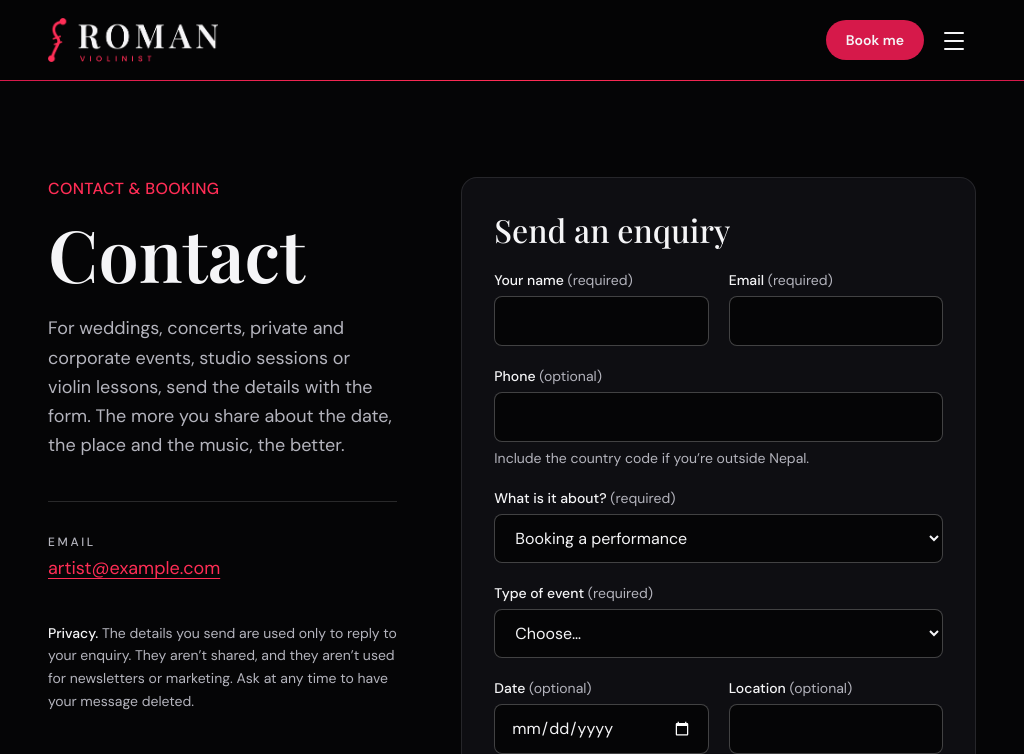
contact page › explains the rate limit
Type "Sita Sharma" into the field labelled "Your name (required)" at (601, 321), box [494,296,709,346]
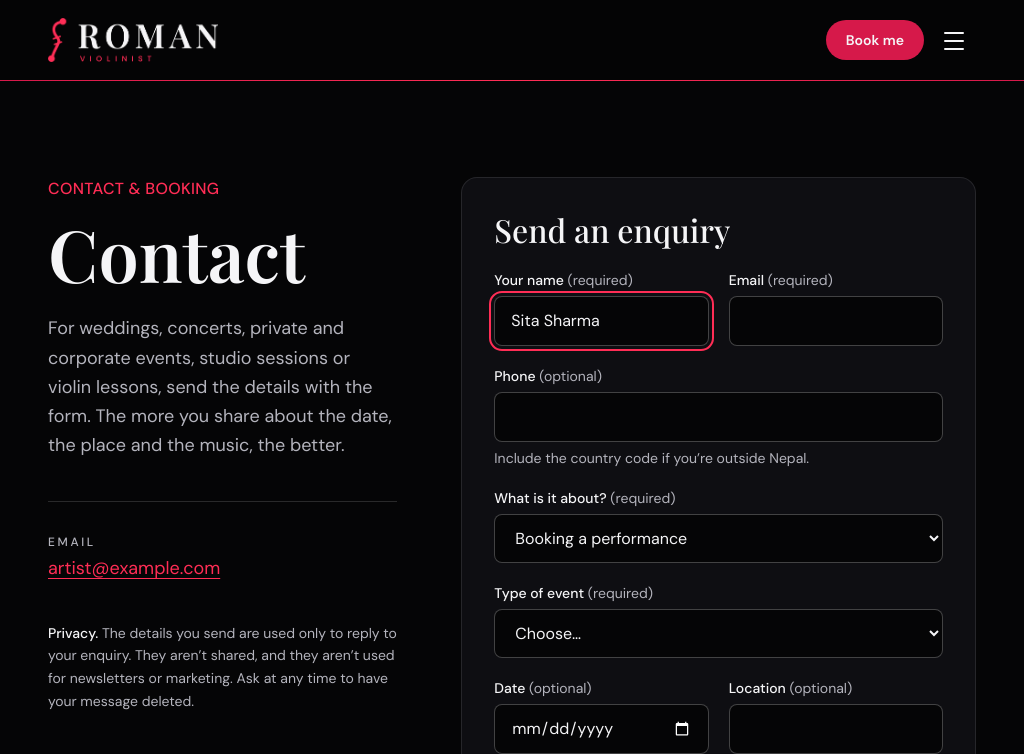
Type "sita@example.com" into the field labelled "Email (required)" at (836, 321), box [729,296,943,346]
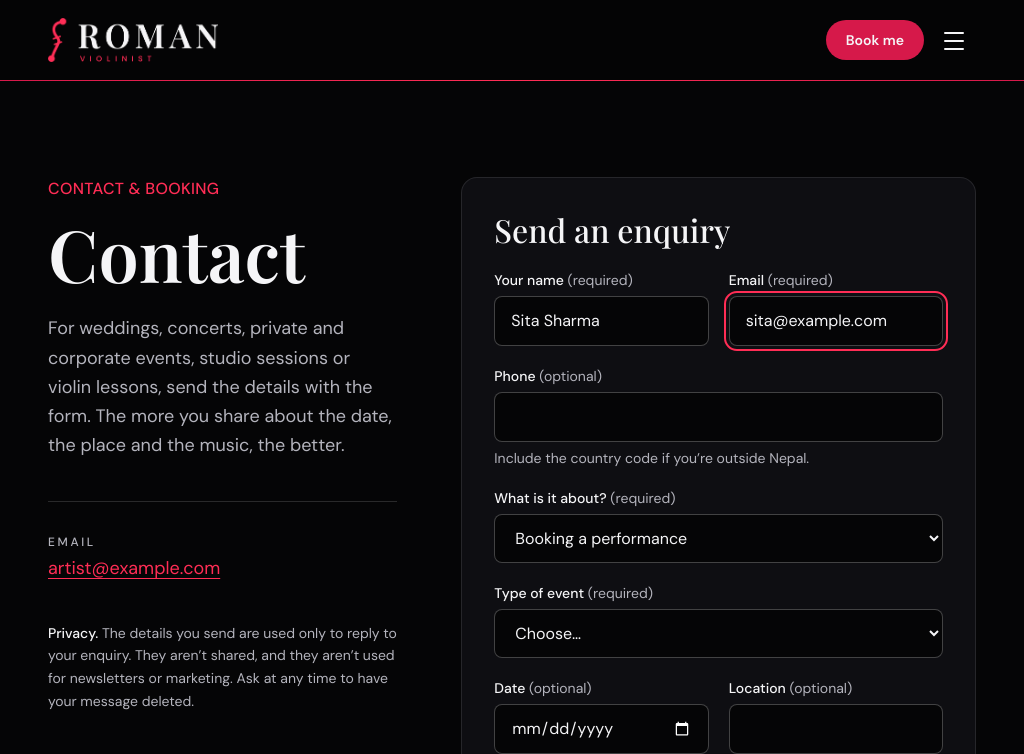
Select "Wedding" in the dropdown labelled "Type of event (required)" at (719, 634), box [494,609,943,658]
(page scrolled)
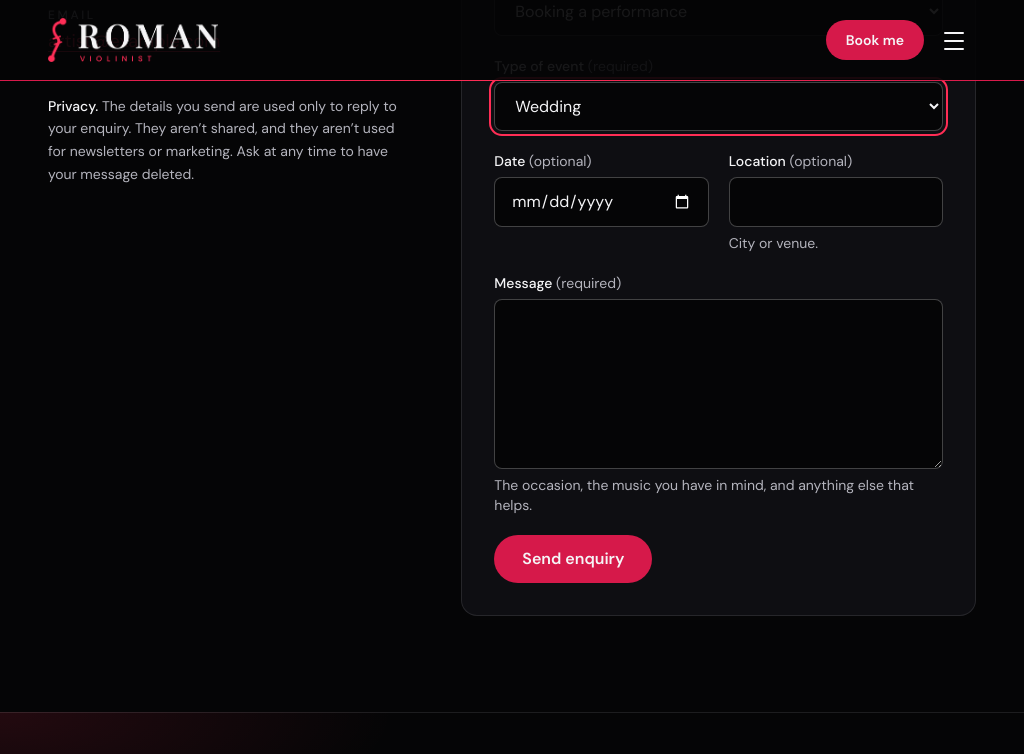
Type "Live violin for our wedding ceremony, please." into the text box labelled "Message (required)" at (719, 384), box [494,299,943,469]
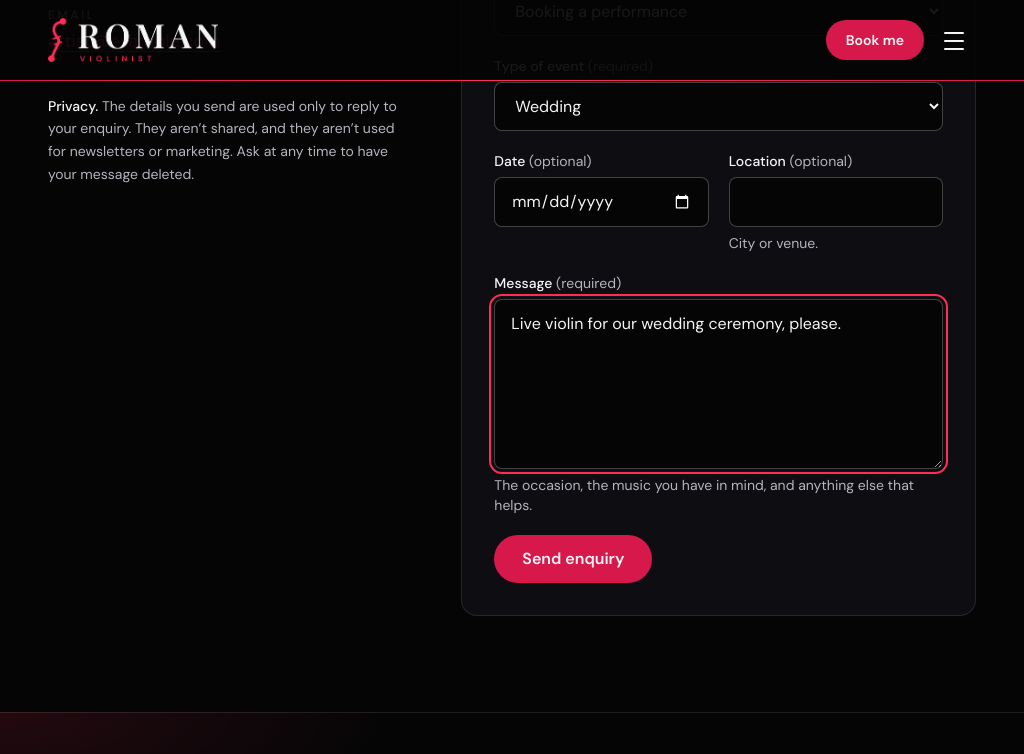
Click the button "Send enquiry" at (573, 559), box [494,535,652,583]
(page scrolled)
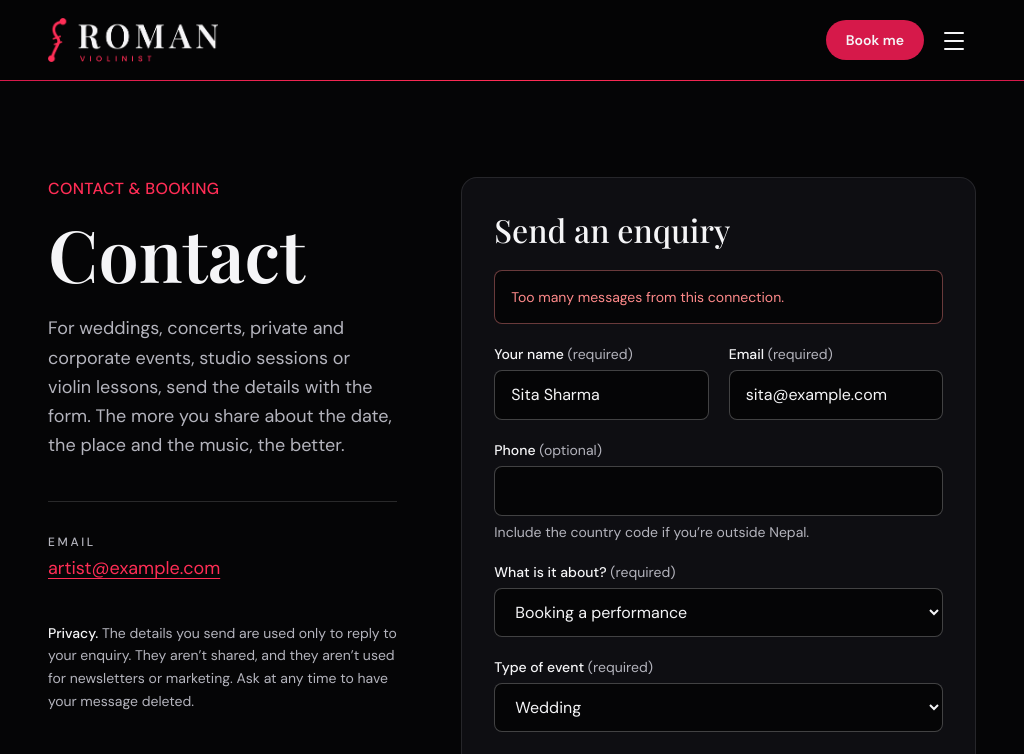
expect the text "Too many messages from this connection." is shown: met, box [494,270,943,324]
